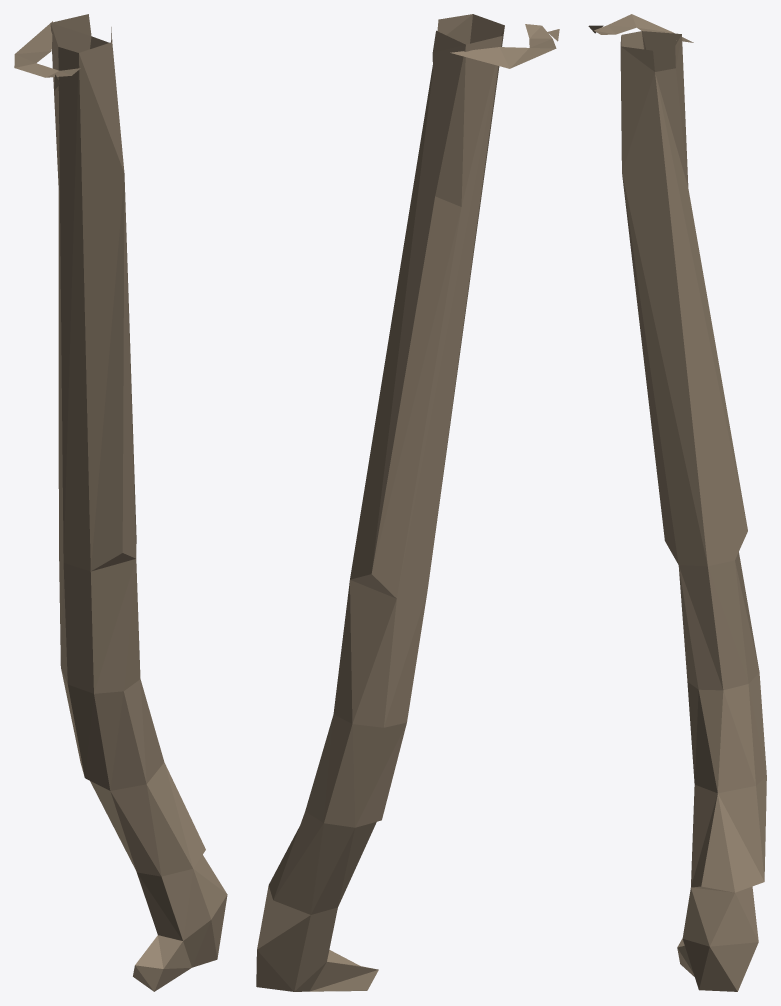
Rendered from tarsus_m_r.dae.
3 renders of one model, left to right at view 1: azimuth 30°, elevation 25°; view 2: azimuth 150°, elevation 25°; view 3: azimuth 270°, elevation 25°, orthographic. The views are drawn at different scales.
Visible parts, largest first — view 1: ant-tarsus-middle-right; view 2: ant-tarsus-middle-right; view 3: ant-tarsus-middle-right.
Boxes of the visible parts, x1,y1,x2,y2 form: ant-tarsus-middle-right: (14, 14, 227, 991); ant-tarsus-middle-right: (256, 14, 559, 991); ant-tarsus-middle-right: (588, 14, 766, 991).
Size of the model in its own units: 1.32 by 0.8901 by 4.88.
